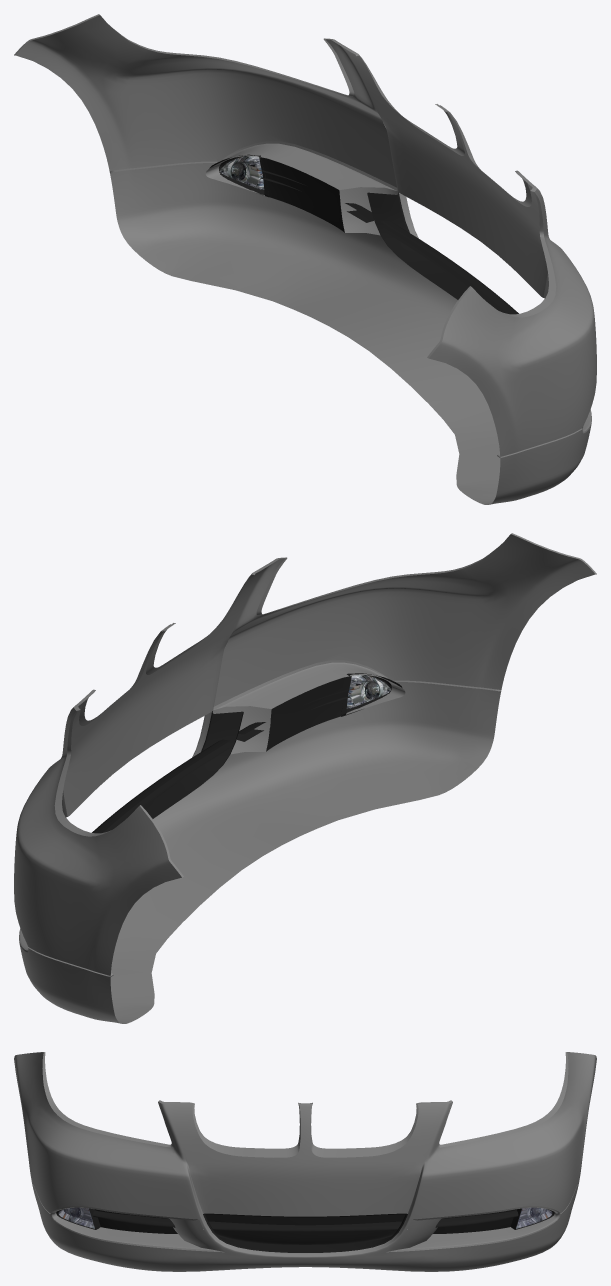
3 views of the same model, one above another, from view 1: azimuth 30°, elevation 25°; view 2: azimuth 150°, elevation 25°; view 3: azimuth 270°, elevation 25° (orthographic). The views are drawn at different scales.
Parts seen in each view (by area): view 1: X4131_021G_C_X4131_021G_C_4_DaS, X4131_021G_C_X4131_021G_C_2_D, X4131_021G_C_X4131_021G_C_4_DaS_E, X4131_021G_C_X4131_021G_C_1_D, X4131_021G_C_X4131_021G_C_5_N; view 2: X4131_021G_C_X4131_021G_C_4_DaS, X4131_021G_C_X4131_021G_C_2_D, X4131_021G_C_X4131_021G_C_4_DaS_E, X4131_021G_C_X4131_021G_C_1_D, X4131_021G_C_X4131_021G_C_6_N; view 3: X4131_021G_C_X4131_021G_C_4_DaS, X4131_021G_C_X4131_021G_C_4_DaS_E, X4131_021G_C_X4131_021G_C_1_D, X4131_021G_C_X4131_021G_C_2_D, X4131_021G_C_X4131_021G_C_5_N, X4131_021G_C_X4131_021G_C_6_N, X4131_021G_C_8_DTaSI_X4131_021G_C, X4131_021G_C_X4131_021G_C_3_DTaSI.
Part boxes in pixels (x1,y1,x2,y2): X4131_021G_C_X4131_021G_C_4_DaS: [14, 14, 596, 504]; X4131_021G_C_X4131_021G_C_2_D: [209, 154, 518, 314]; X4131_021G_C_X4131_021G_C_4_DaS_E: [100, 15, 594, 458]; X4131_021G_C_X4131_021G_C_1_D: [259, 157, 393, 252]; X4131_021G_C_X4131_021G_C_5_N: [220, 156, 264, 189]; X4131_021G_C_X4131_021G_C_4_DaS: [14, 533, 596, 1023]; X4131_021G_C_X4131_021G_C_2_D: [92, 673, 402, 833]; X4131_021G_C_X4131_021G_C_4_DaS_E: [16, 534, 510, 977]; X4131_021G_C_X4131_021G_C_1_D: [217, 676, 351, 771]; X4131_021G_C_X4131_021G_C_6_N: [346, 675, 390, 708]; X4131_021G_C_X4131_021G_C_4_DaS: [14, 1052, 596, 1271]; X4131_021G_C_X4131_021G_C_4_DaS_E: [33, 1052, 577, 1252]; X4131_021G_C_X4131_021G_C_1_D: [95, 1209, 516, 1244]; X4131_021G_C_X4131_021G_C_2_D: [56, 1208, 554, 1252]; X4131_021G_C_X4131_021G_C_5_N: [516, 1207, 552, 1228]; X4131_021G_C_X4131_021G_C_6_N: [58, 1207, 94, 1228]; X4131_021G_C_8_DTaSI_X4131_021G_C: [516, 1208, 551, 1228]; X4131_021G_C_X4131_021G_C_3_DTaSI: [59, 1208, 94, 1228].
Size of the model in its own units: 74.02 by 64.89 by 202.
